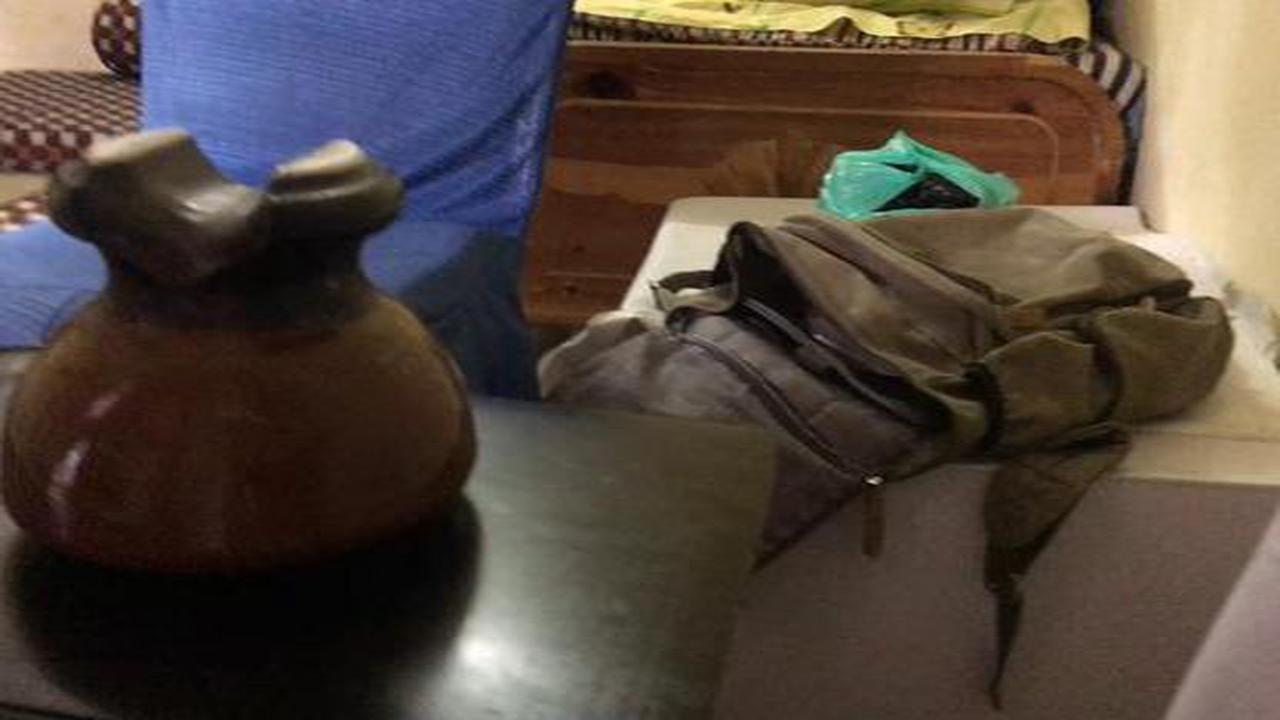insulator_pin: (7, 125, 508, 591)
